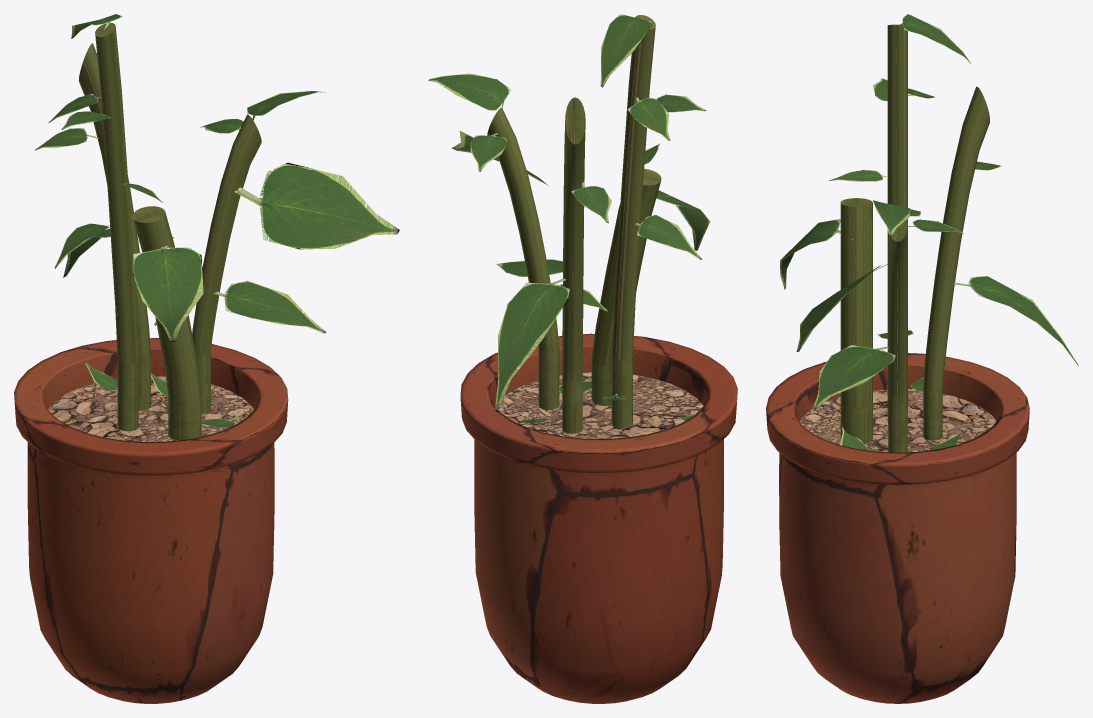
The picture shows the model from 3 angles, left to right: view 1: azimuth 30°, elevation 25°; view 2: azimuth 150°, elevation 25°; view 3: azimuth 270°, elevation 25°; orthographic projection. The views are drawn at different scales.
Visible parts, largest first — view 1: revolvedSurface1, pCylinder3, pPlane2, pCylinder2, pCylinder1, pCylinder5, pPlane8, pCylinder4, pPlane5, pPlane3, pPlane16, pPlane7; view 2: revolvedSurface1, pCylinder3, pCylinder4, pCylinder1, pCylinder2, pPlane9, pCylinder5, pPlane14, pPlane16, pPlane3, pPlane10, pPlane8 (+4 smaller); view 3: revolvedSurface1, pCylinder4, pCylinder5, pCylinder1, pCylinder2, pCylinder3, pPlane5, pPlane9, pPlane2, pPlane8, pPlane14, pPlane16.
Boxes of the visible parts, box(x1,y1,x2,y2) form: revolvedSurface1: box(14, 338, 288, 703); pCylinder3: box(95, 22, 138, 431); pPlane2: box(235, 162, 399, 249); pCylinder2: box(192, 114, 261, 413); pCylinder1: box(48, 376, 253, 441); pCylinder5: box(132, 206, 201, 440); pPlane8: box(133, 237, 203, 341); pCylinder4: box(79, 43, 150, 409); pPlane5: box(213, 281, 325, 333); pPlane3: box(54, 223, 109, 268); pPlane16: box(247, 91, 325, 120); pPlane7: box(35, 128, 99, 150); revolvedSurface1: box(460, 333, 737, 703); pCylinder3: box(611, 15, 655, 428); pCylinder4: box(562, 97, 585, 433); pCylinder1: box(498, 372, 703, 438); pCylinder2: box(487, 107, 559, 409); pPlane9: box(495, 278, 569, 412); pCylinder5: box(591, 169, 661, 406); pPlane14: box(600, 14, 652, 87); pPlane16: box(428, 73, 511, 110); pPlane3: box(635, 215, 701, 259); pPlane10: box(628, 97, 670, 140); pPlane8: box(656, 190, 710, 250); revolvedSurface1: box(766, 353, 1029, 703); pCylinder4: box(923, 86, 989, 440); pCylinder5: box(840, 198, 872, 444); pCylinder1: box(799, 389, 996, 452); pCylinder2: box(888, 219, 907, 452); pCylinder3: box(887, 24, 907, 422); pPlane5: box(813, 345, 895, 409); pPlane9: box(953, 276, 1078, 365); pPlane2: box(796, 264, 887, 351); pPlane8: box(780, 219, 854, 289); pPlane14: box(899, 14, 970, 63); pPlane16: box(873, 200, 909, 235).
Bounding box in the file's own units: 9.03 × 18.14 × 8.06.
Materials: 4 (4 with a texture image).
